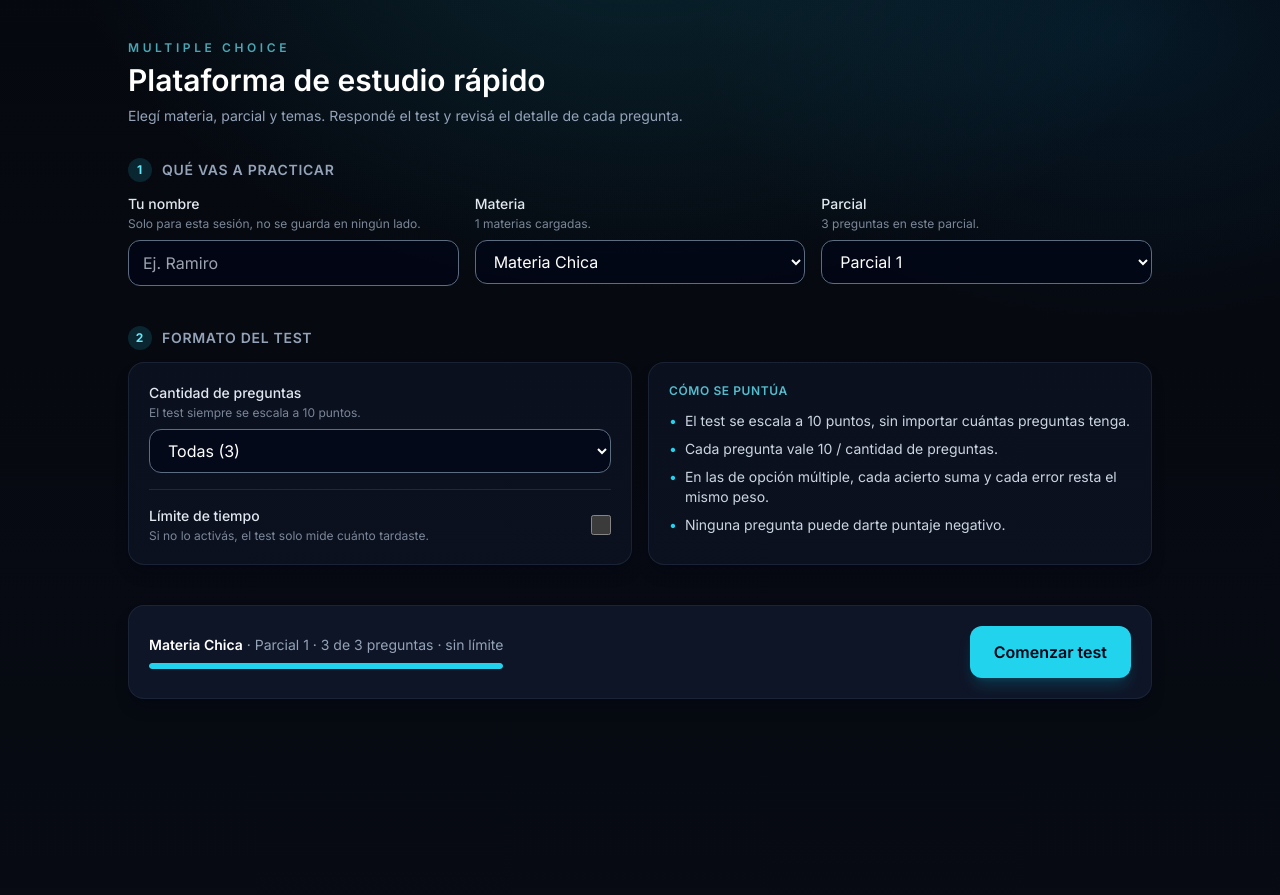
Test: TestApp · durante el test › actualiza el contador de respondidas y el estado de cada pregunta
Click the button "Comenzar test" at (1050, 652), box top-left (970, 626), bottom-right (1131, 678)
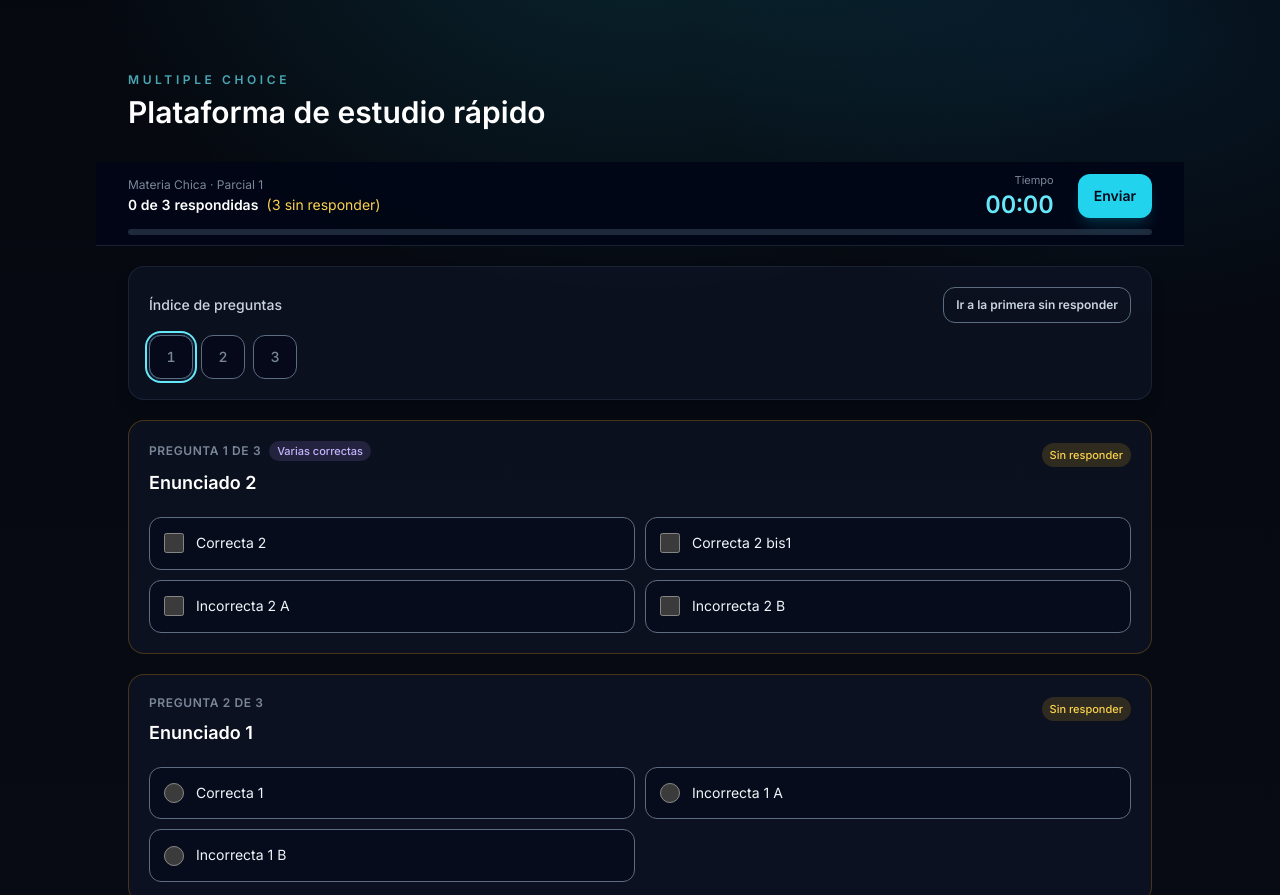
Check: the text "0 de 3 respondidas(3 sin responder)" is shown, box top-left (128, 196), bottom-right (381, 213)
Check: the text "(3 sin responder)" is shown, box top-left (266, 196), bottom-right (381, 213)
Click the radio button labelled "Correcta 1" at (174, 793), box top-left (164, 783), bottom-right (184, 803)
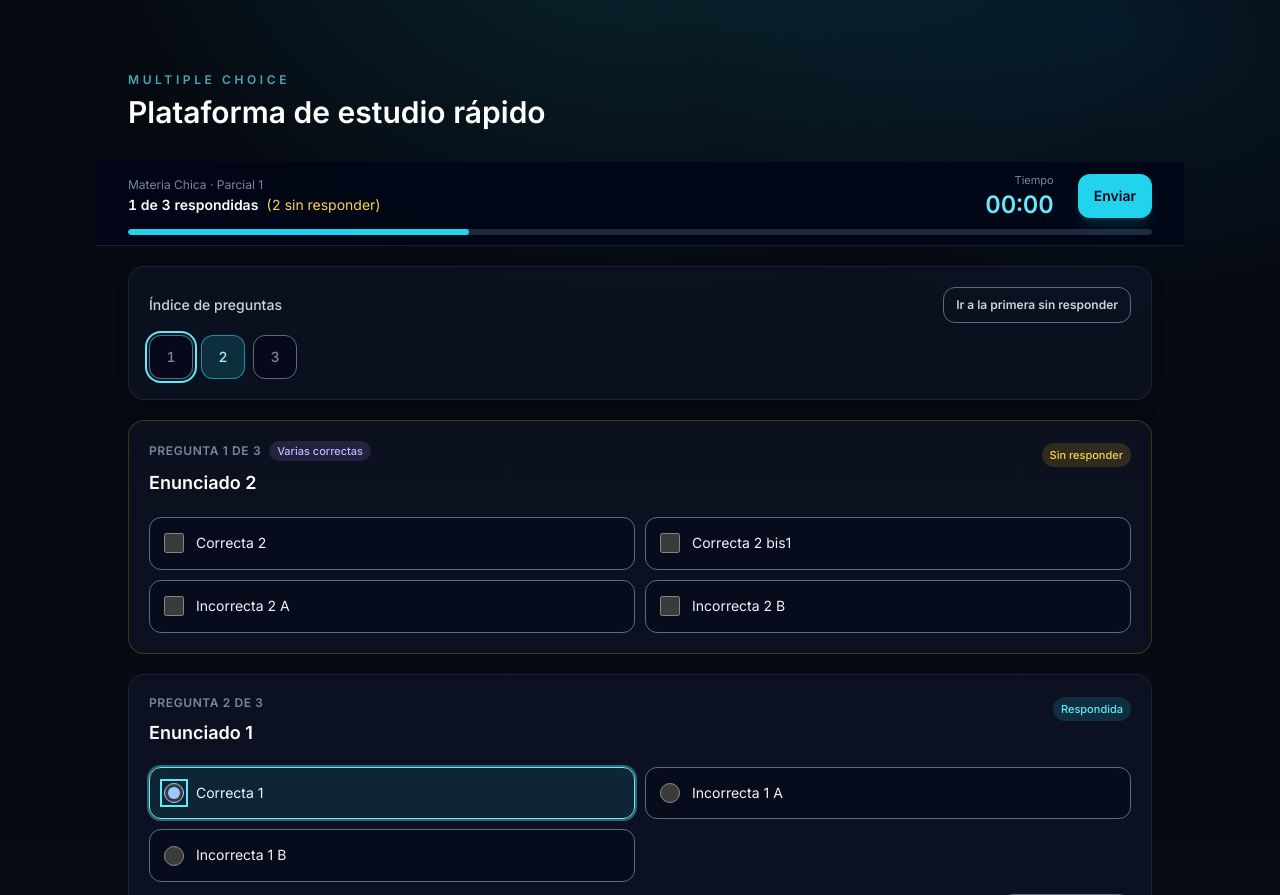
Check: the text "1 de 3 respondidas(2 sin responder)" is shown, box top-left (128, 196), bottom-right (381, 213)
Check: the text "Respondida" is shown, box top-left (1053, 696), bottom-right (1131, 721)
